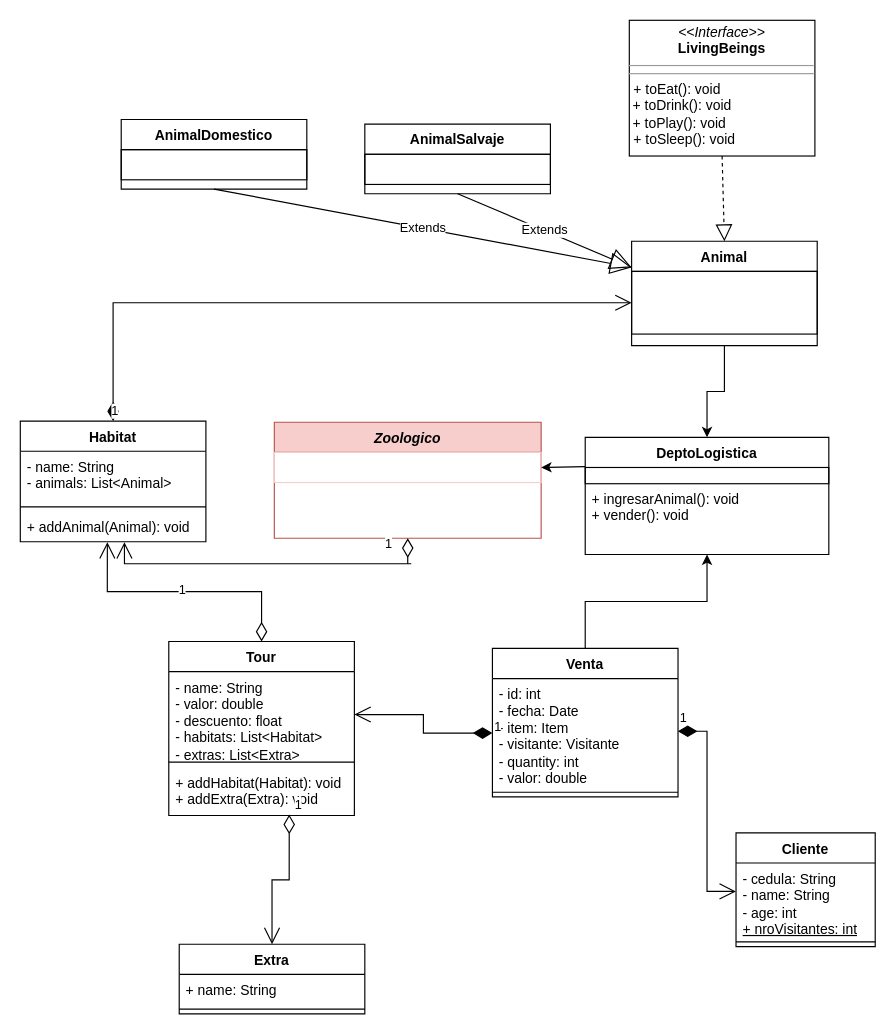
Some shapes in this 896 by 1035 pixel diagram are drawn without their labels. The centre of each missing label's shape, as x and y in pixels:
"+main (args[ ]): void" belongs at (x=407, y=467).
"- codigo: String - name: String - fechaNacimiento: Date" belongs at (x=723, y=302).
"- nivelPeligrosidad: String" belongs at (x=457, y=168).
"- uso: String" belongs at (x=213, y=164).
